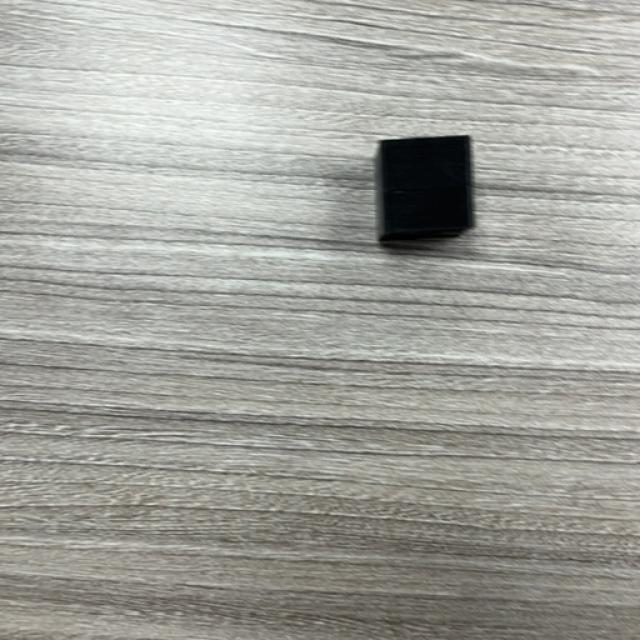Negro: (374, 135, 476, 248)
